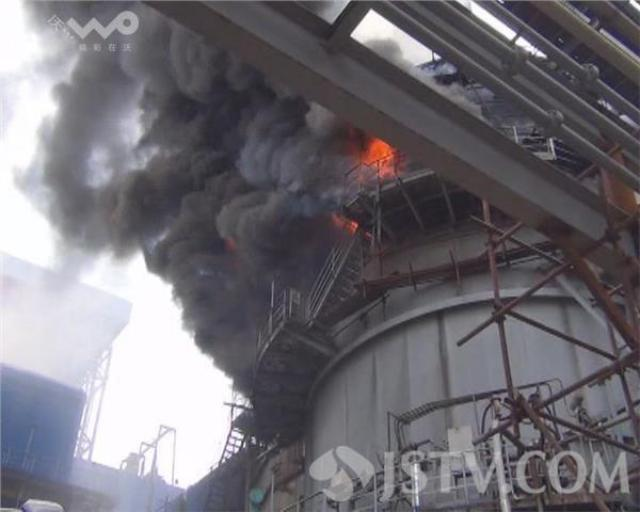fire: (362, 135, 398, 175)
